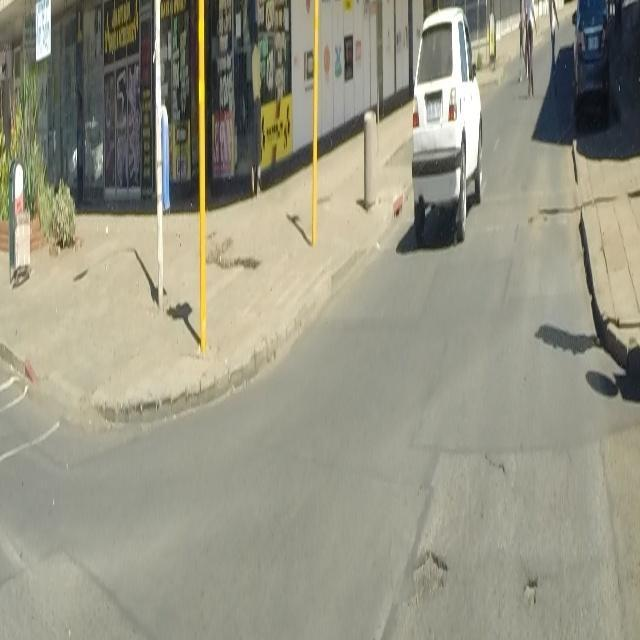pothole: (412, 550, 448, 606), (520, 570, 540, 606)
